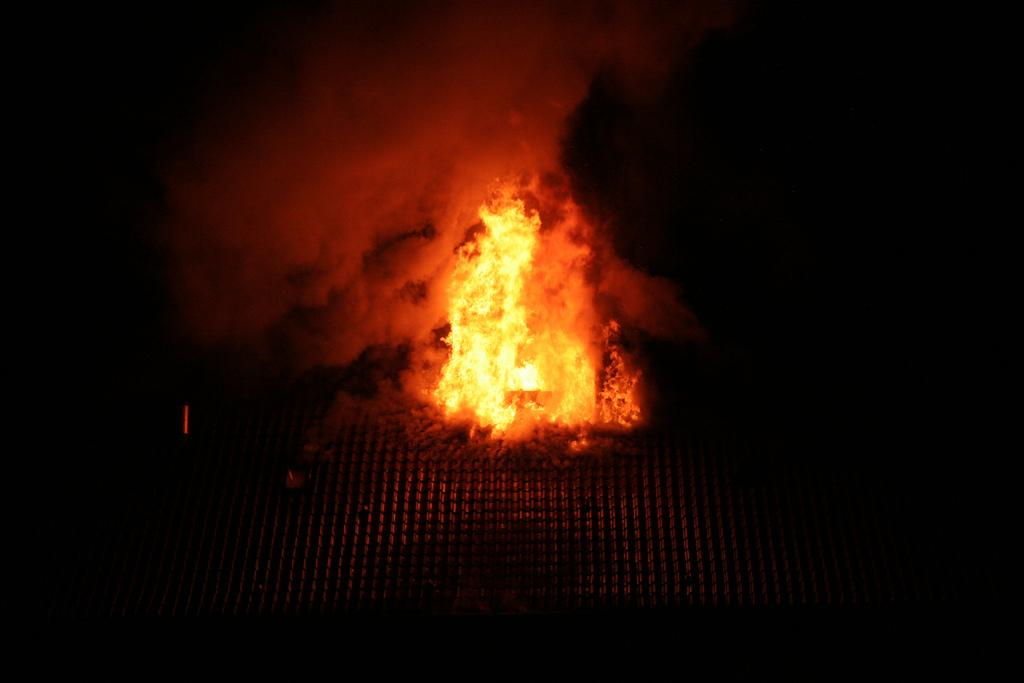fire: (448, 192, 547, 423)
